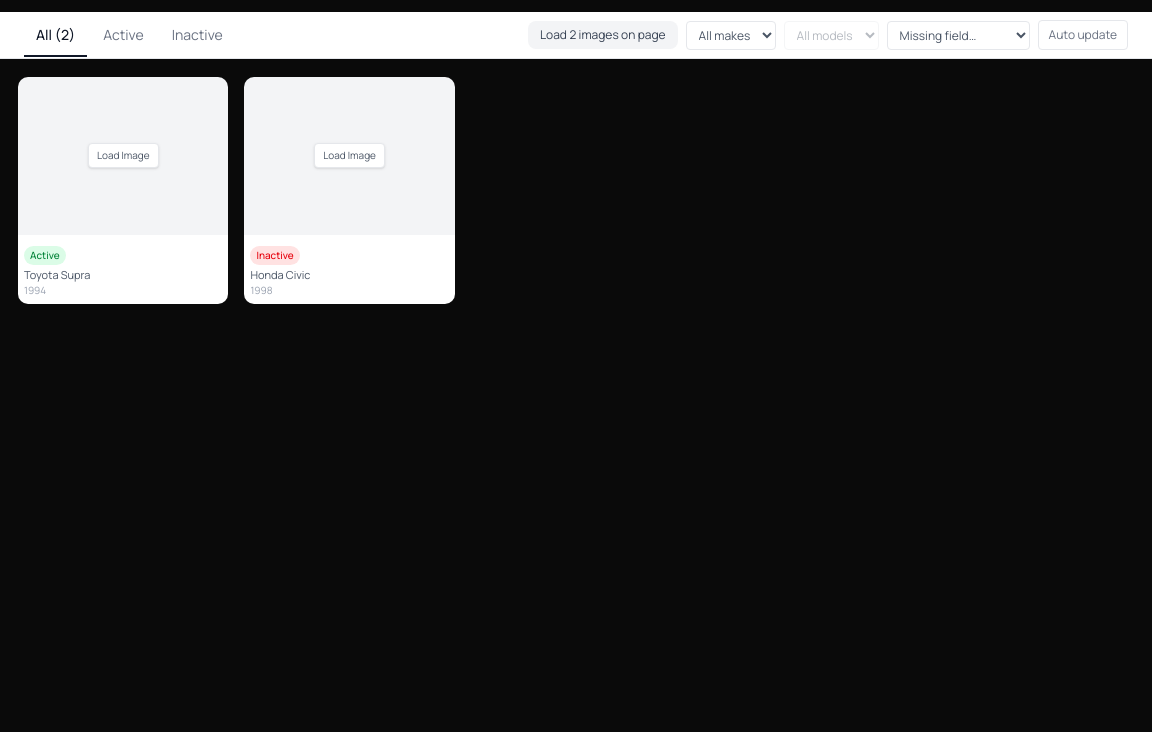
ImagesPanel › detail panel › opens the detail panel on image click
The image size is (1152, 732).
Click the text "Toyota Supra". click: (57, 274)
box: top-left (24, 267), bottom-right (90, 282)
(page scrolled)
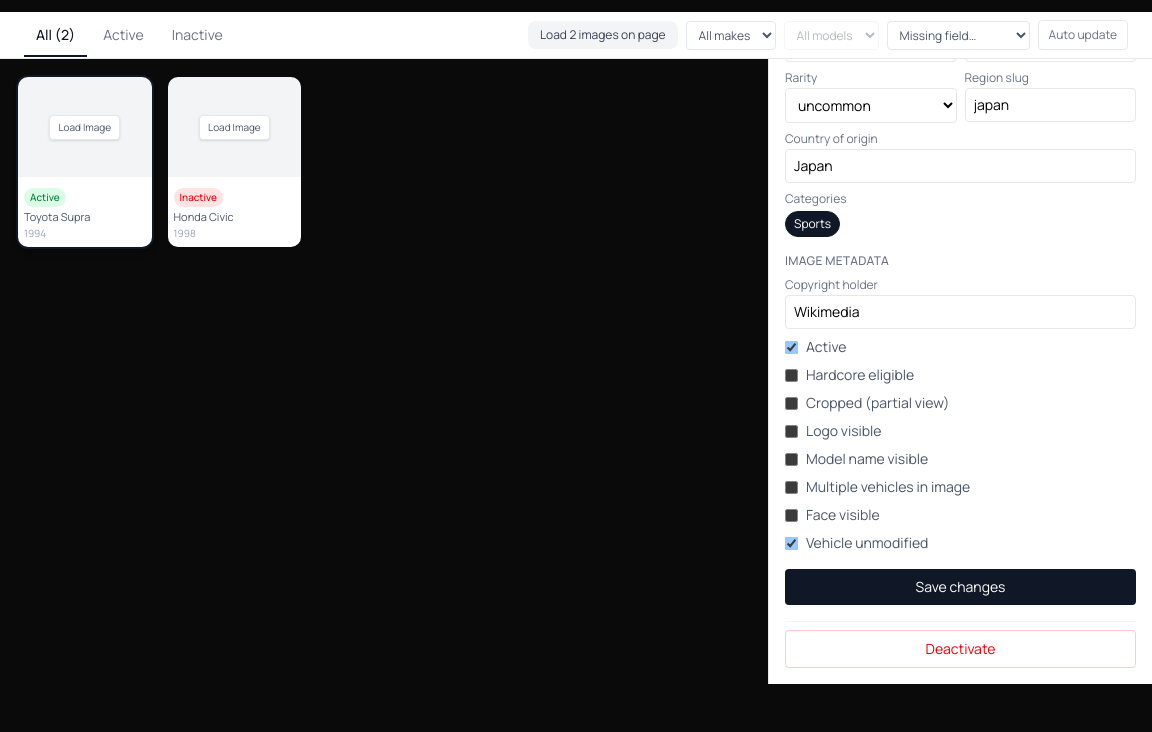
expect the button "Save changes" is shown: met, box top-left (785, 569), bottom-right (1136, 605)
